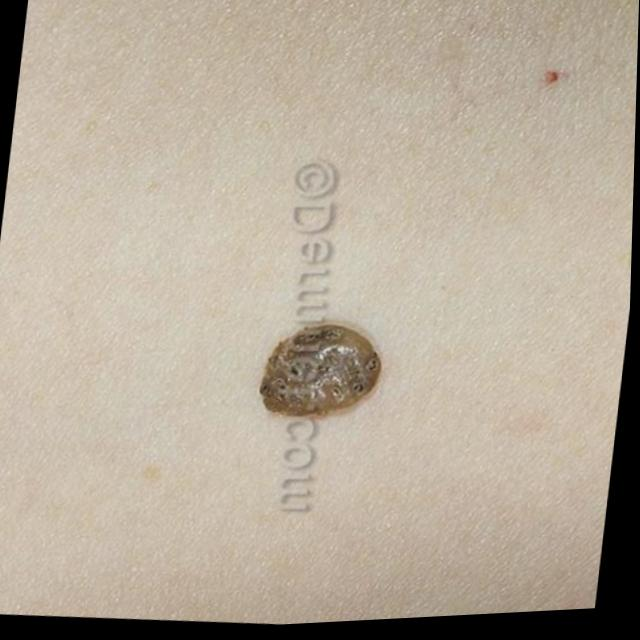Eczema: (251, 296, 385, 425)
